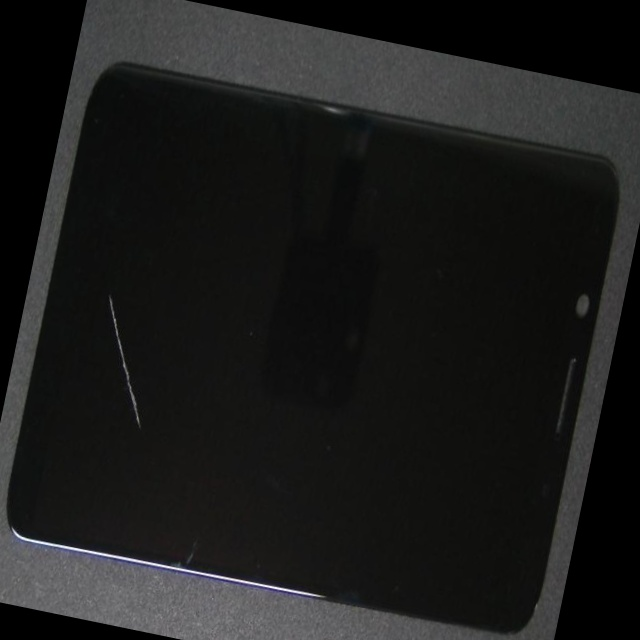scratch: (83, 270, 219, 570)
